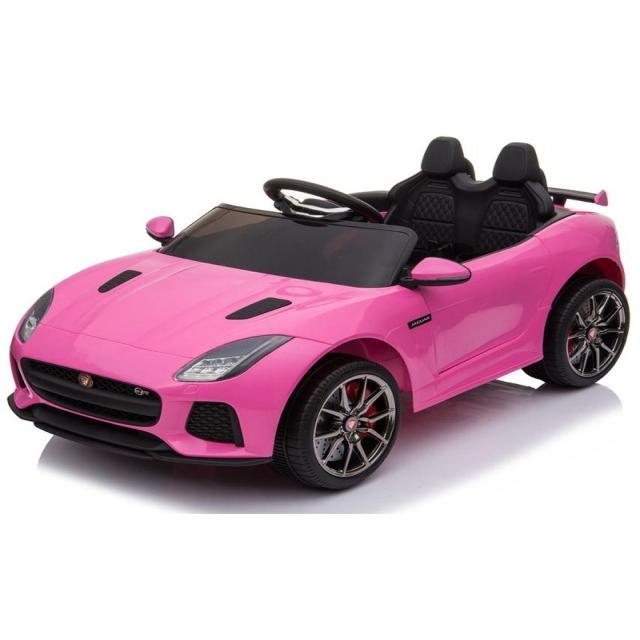Car: (7, 137, 630, 491)
